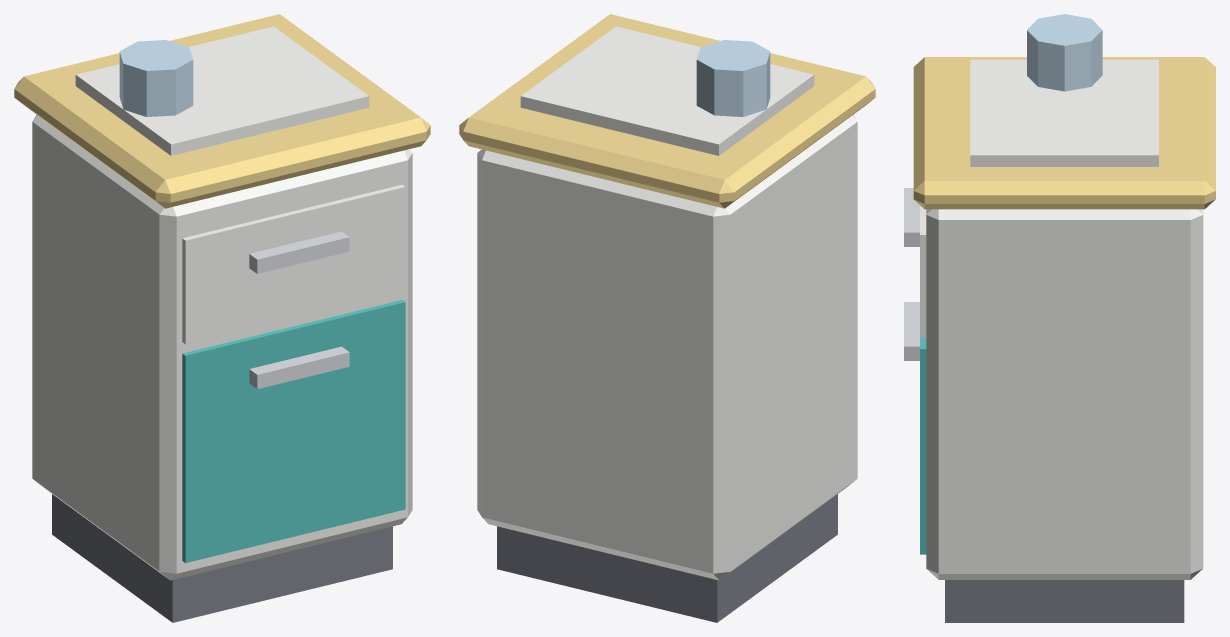
3 renders of one model, left to right at view 1: azimuth 30°, elevation 25°; view 2: azimuth 150°, elevation 25°; view 3: azimuth 270°, elevation 25°, orthographic.
Visible parts, largest first — view 1: bedside-cabinet; view 2: bedside-cabinet; view 3: bedside-cabinet.
Part boxes in pixels (bbox=[...]): bedside-cabinet: bbox=[14, 14, 430, 622]; bedside-cabinet: bbox=[459, 14, 875, 622]; bedside-cabinet: bbox=[904, 14, 1215, 622].
Size of the model in its own units: 0.5 by 0.89 by 0.495.
